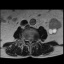CCS_stenosis: (29, 38, 30, 44)
LFS_stenosis: (32, 38, 34, 42)
LLS_stenosis: (30, 38, 32, 43)
RFS_normal: (26, 37, 27, 42)
RLS_stenosis: (27, 38, 29, 43)
